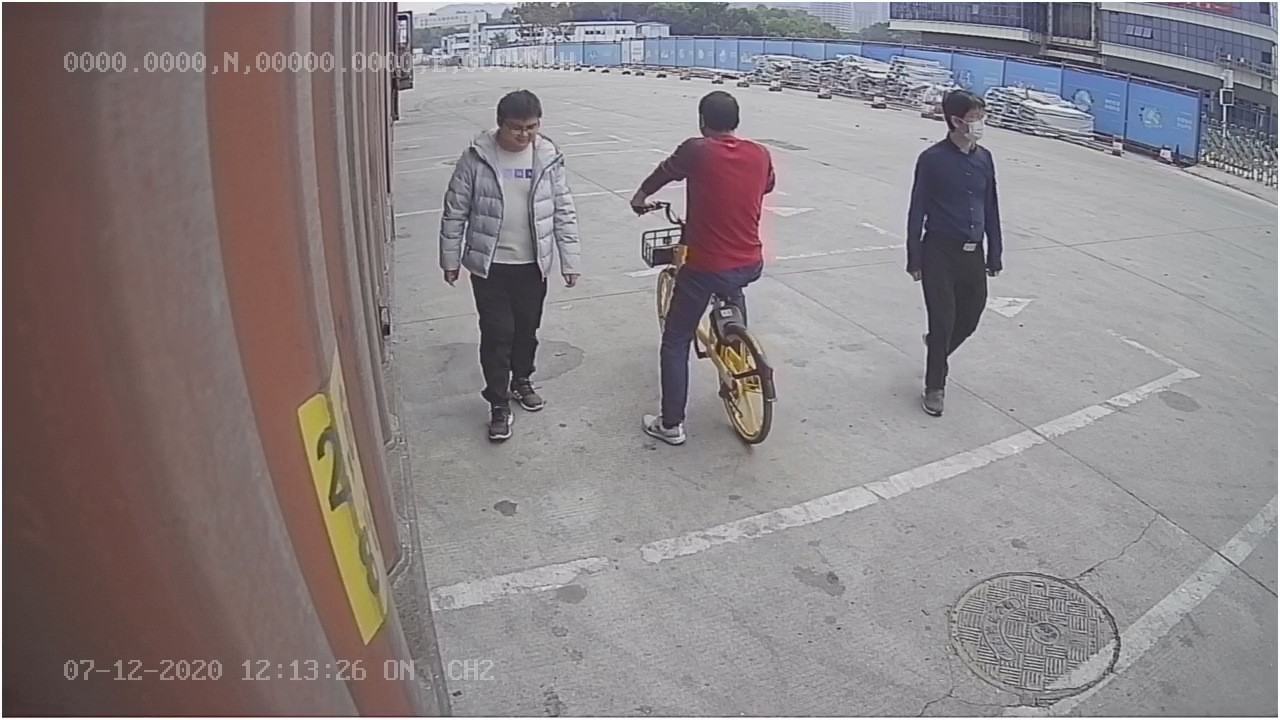person: (436, 86, 584, 444), (903, 88, 1005, 416)
